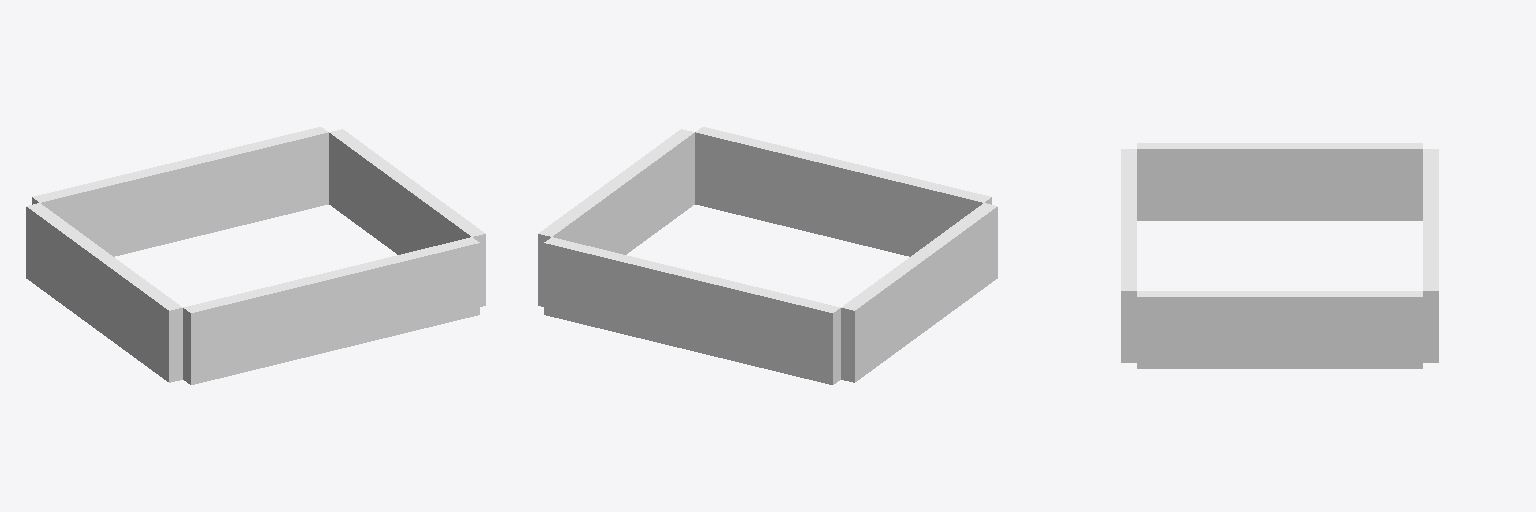
Rendered from enemy-5.obj.
The picture shows the model from 3 angles: view 1: azimuth 30°, elevation 25°; view 2: azimuth 150°, elevation 25°; view 3: azimuth 270°, elevation 25°; orthographic projection.
Visible parts, largest first — view 1: object 1; view 2: object 1; view 3: object 1.
Boxes of the visible parts, x1=… form: object 1: x1=26, y1=127, x2=485, y2=384; object 1: x1=538, y1=127, x2=997, y2=384; object 1: x1=1121, y1=143, x2=1438, y2=368.
Size of the model in its own units: 2.3 by 0.5 by 2.